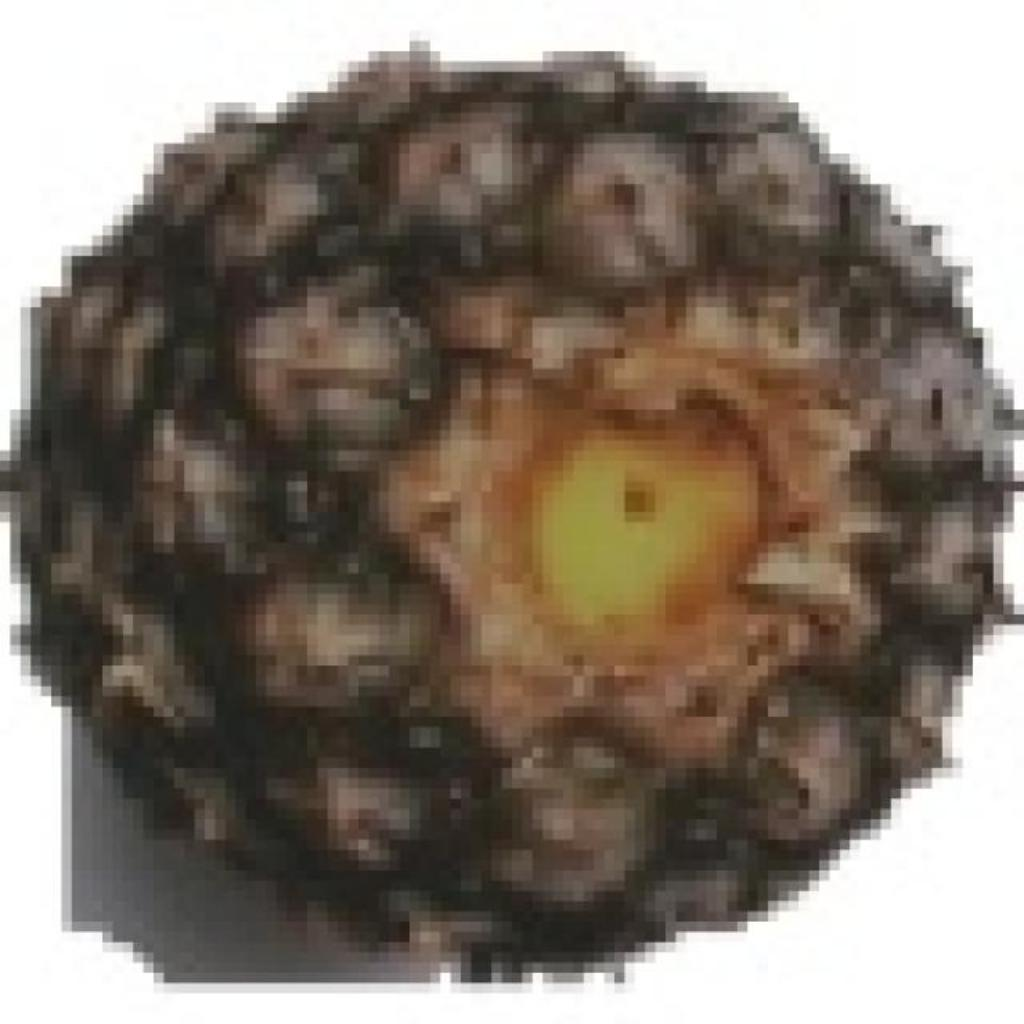pineapple: (51, 41, 1014, 963)
